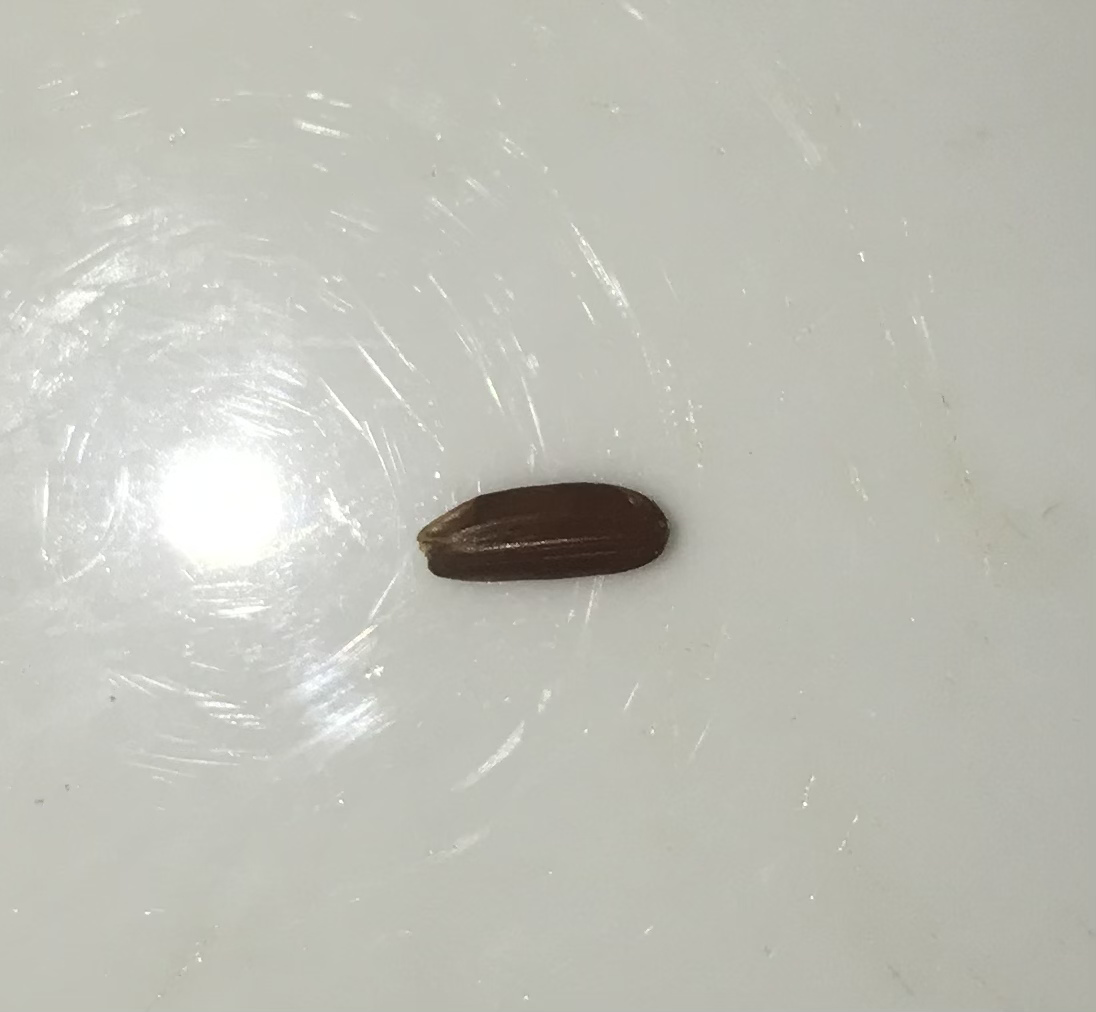Gao Lut Do: (409, 473, 675, 607)
